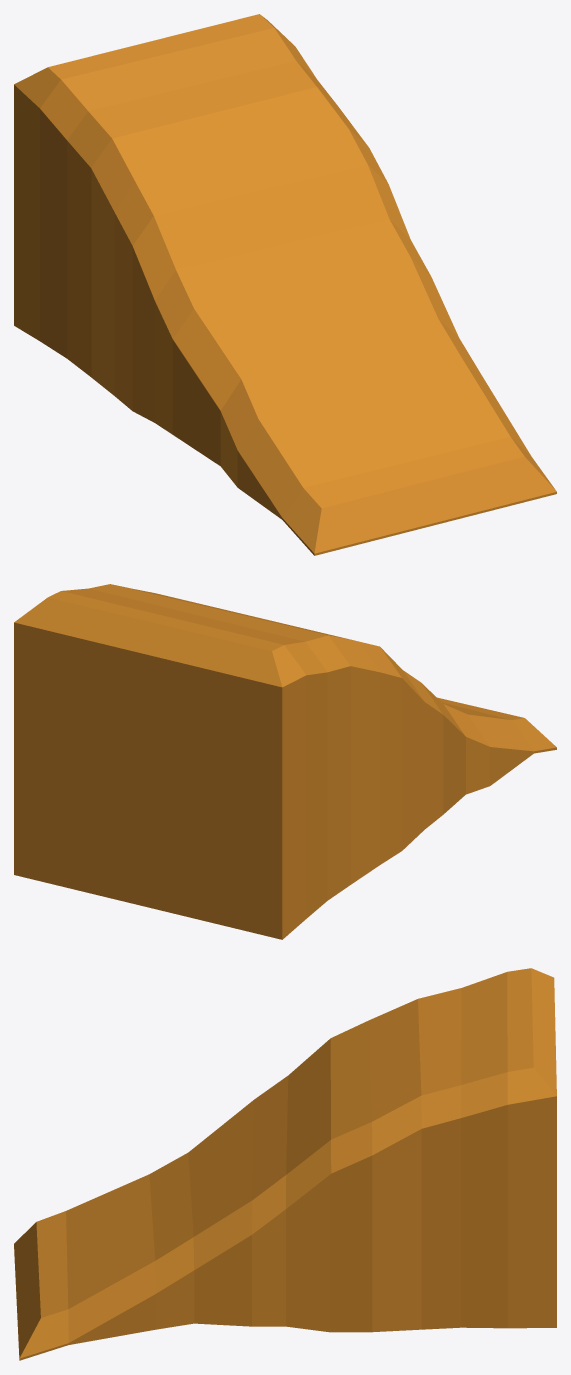
Rendered from Railway_up_01.fbx.
The picture shows the model from 3 angles, top to bottom: view 1: azimuth 30°, elevation 25°; view 2: azimuth 150°, elevation 25°; view 3: azimuth 270°, elevation 25°; orthographic projection. The views are drawn at different scales.
Parts seen in each view (by area): view 1: up.001; view 2: up.001; view 3: up.001.
Boxes of the visible parts, bbox=[...] form: up.001: bbox=[14, 14, 556, 555]; up.001: bbox=[14, 584, 556, 939]; up.001: bbox=[14, 968, 556, 1360].
Bounding box in the file's own units: 151 × 158 × 279.
